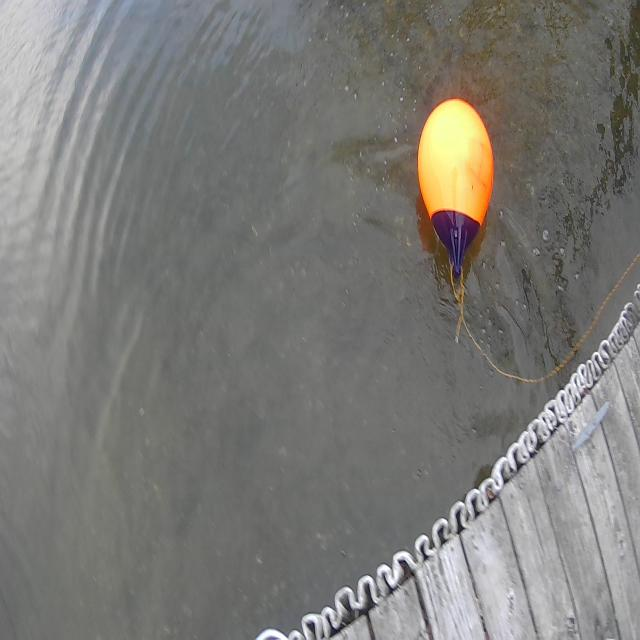Buoy: (409, 83, 509, 291)
